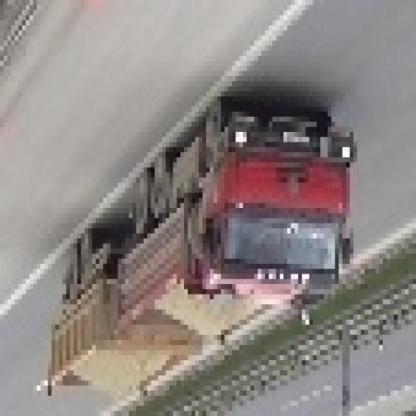truck: (49, 107, 358, 407)
